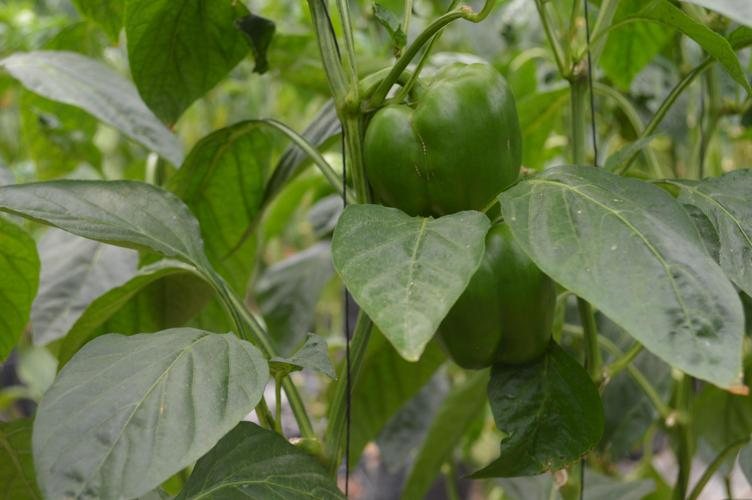BellPepper: (357, 54, 515, 211), (431, 224, 553, 370)
